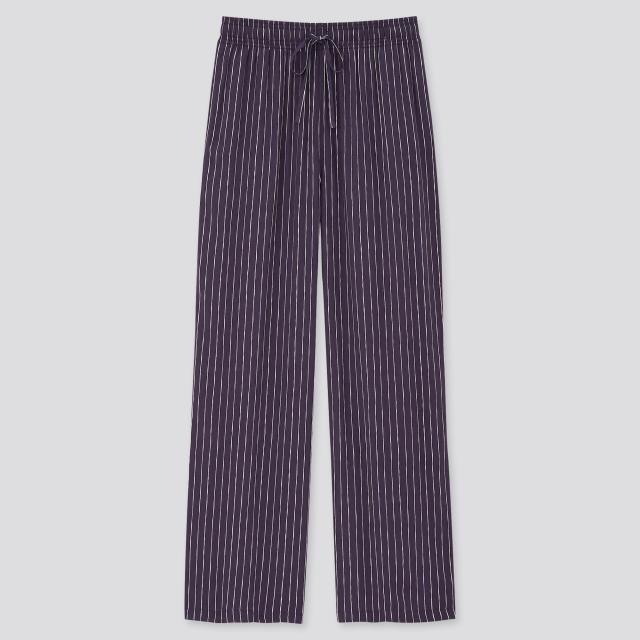long-pants: (183, 16, 457, 631)
